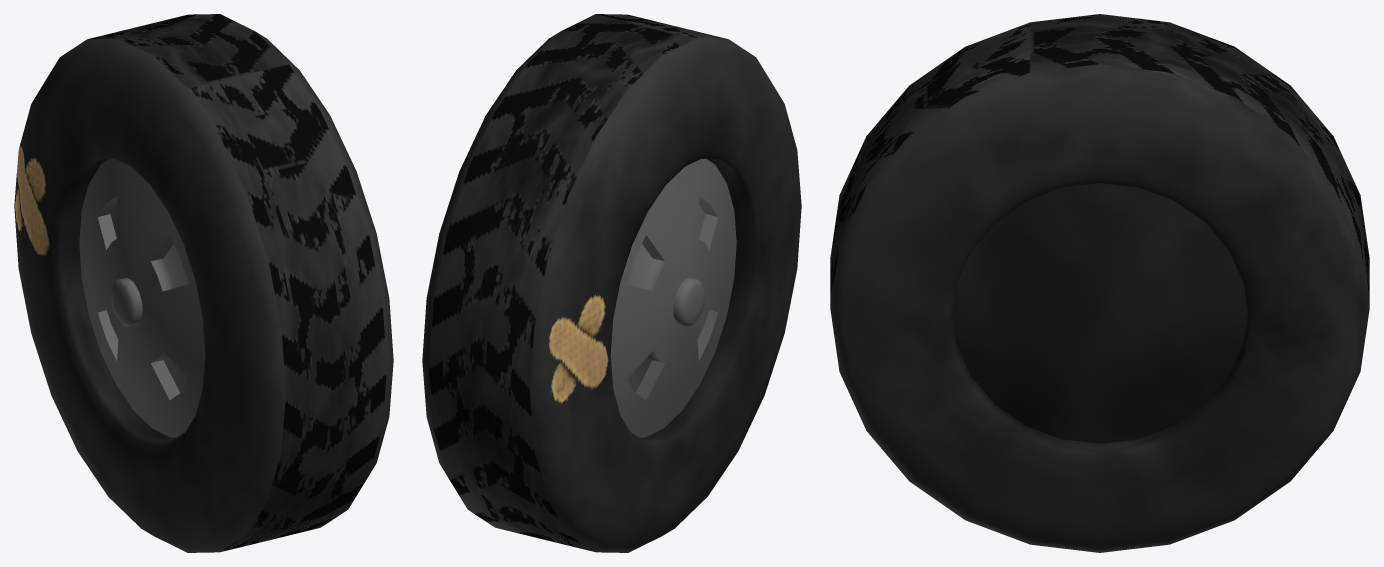
File: llantaDelDer.obj
The picture shows the model from 3 angles, left to right: view 1: azimuth 30°, elevation 25°; view 2: azimuth 150°, elevation 25°; view 3: azimuth 270°, elevation 25°; orthographic projection.
Parts seen in each view (by area): view 1: truck_wheel.001; view 2: truck_wheel.001; view 3: truck_wheel.001.
Boxes of the visible parts, bbox=[...] form: truck_wheel.001: bbox=[14, 14, 393, 552]; truck_wheel.001: bbox=[422, 14, 801, 552]; truck_wheel.001: bbox=[830, 14, 1369, 552].
Bounding box in the file's own units: 1.62 × 4.64 × 4.64.
